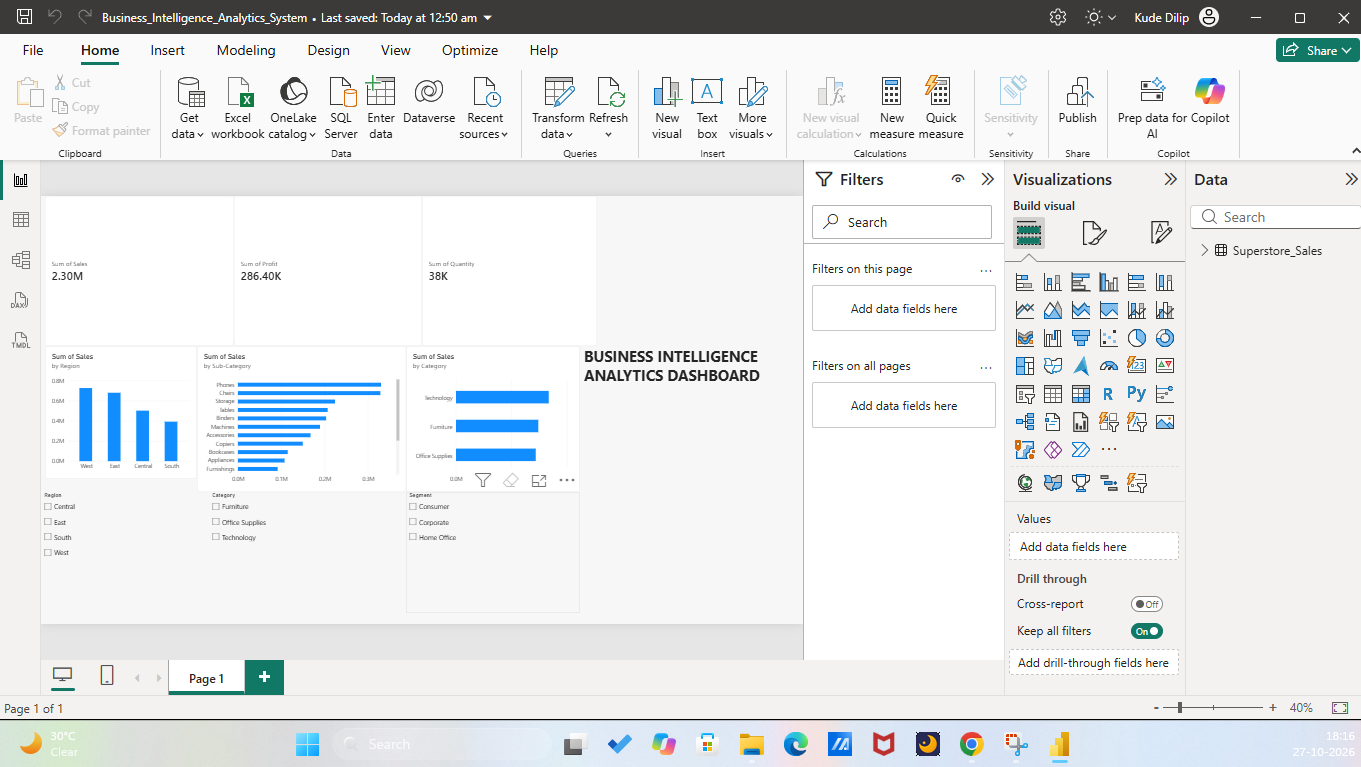

The dashboard page shown, as its layout file describes it:
{"tool":"powerbi","page":{"name":"Page 1","canvas":[1920,1080],"ordinal":0},"visuals":[{"type":"cardVisual","fields":{"Data":["Sum(Superstore_Sales.Sales)"]},"box":[10.1,0,476.2,378],"z":0},{"type":"cardVisual","fields":{"Data":["Sum(Superstore_Sales.Profit)"]},"box":[486.3,0,473.7,378],"z":1},{"type":"cardVisual","fields":{"Data":["Sum(Superstore_Sales.Quantity)"]},"box":[960,0,440.9,378],"z":2},{"type":"clusteredBarChart","fields":{"Category":["Superstore_Sales.Category"],"Y":["Sum(Superstore_Sales.Sales)"]},"box":[919.7,378,438.4,367.9],"z":3},{"type":"clusteredColumnChart","fields":{"Category":["Superstore_Sales.Region"],"Y":["Sum(Superstore_Sales.Sales)"]},"box":[10.1,378,383,335.1],"z":4},{"type":"clusteredBarChart","fields":{"Category":["Superstore_Sales.Sub-Category"],"Y":["Sum(Superstore_Sales.Sales)"]},"box":[393.1,378,526.6,367.9],"z":5},{"type":"slicer","fields":{"Values":["Superstore_Sales.Region"]},"box":[0,745.8,423,304],"z":6},{"type":"slicer","fields":{"Values":["Superstore_Sales.Category"]},"box":[423,746,497,304],"z":7},{"type":"slicer","fields":{"Values":["Superstore_Sales.Segment"]},"box":[920,746,438,304],"z":8},{"type":"textbox","box":[1368.2,378,488.8,257],"z":9}]}

Visuals, with their boxes on the page's 1920x1080 design canvas (x1, y1, x2, y2). These are canvas units, not pixel positions in the 1361x767 screenshot, which may show the page scaled, cropped or inside an application window:
cardVisual - Sum(Superstore_Sales.Sales): (x1=10, y1=0, x2=486, y2=378)
cardVisual - Sum(Superstore_Sales.Profit): (x1=486, y1=0, x2=960, y2=378)
cardVisual - Sum(Superstore_Sales.Quantity): (x1=960, y1=0, x2=1401, y2=378)
clusteredBarChart - Superstore_Sales.Category x Sum(Superstore_Sales.Sales): (x1=920, y1=378, x2=1358, y2=746)
clusteredColumnChart - Superstore_Sales.Region x Sum(Superstore_Sales.Sales): (x1=10, y1=378, x2=393, y2=713)
clusteredBarChart - Superstore_Sales.Sub-Category x Sum(Superstore_Sales.Sales): (x1=393, y1=378, x2=920, y2=746)
slicer - Superstore_Sales.Region: (x1=0, y1=746, x2=423, y2=1050)
slicer - Superstore_Sales.Category: (x1=423, y1=746, x2=920, y2=1050)
slicer - Superstore_Sales.Segment: (x1=920, y1=746, x2=1358, y2=1050)
textbox: (x1=1368, y1=378, x2=1857, y2=635)
